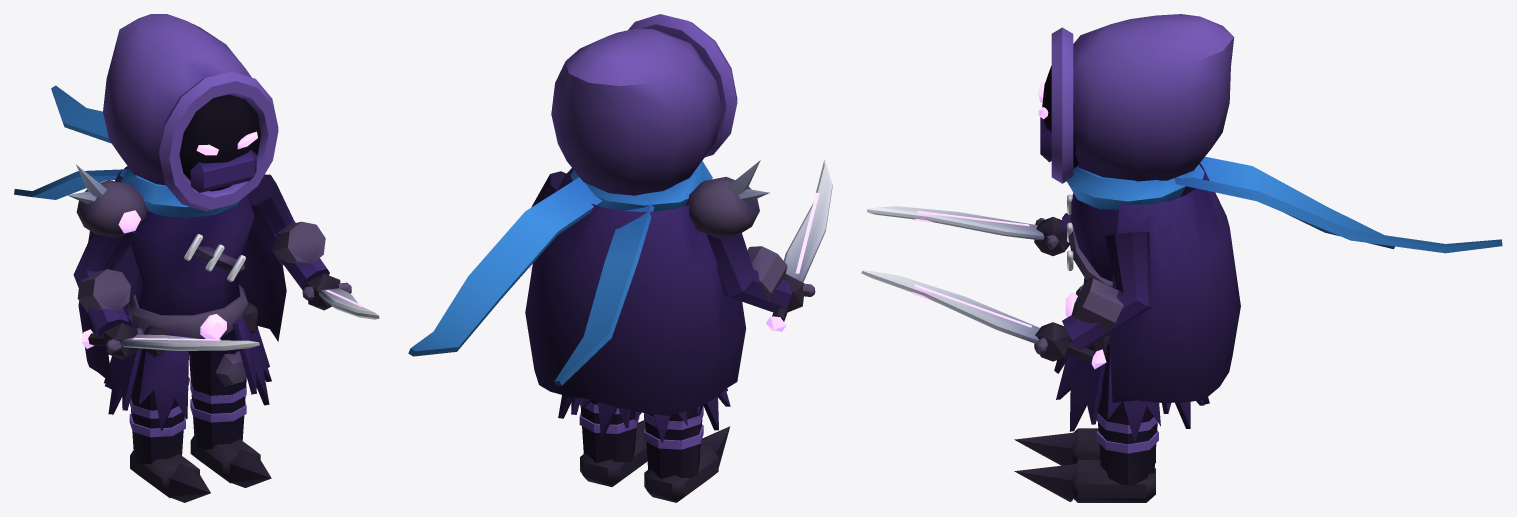
The model's file is hero_sable.glb.
3 renders of one model, left to right at view 1: azimuth 30°, elevation 25°; view 2: azimuth 150°, elevation 25°; view 3: azimuth 270°, elevation 25°, orthographic. The views are drawn at different scales.
Visible parts, largest first — view 1: torso, head, leg_l, arm_r, arm_l, leg_r; view 2: torso, head, arm_r, leg_r, leg_l, arm_l; view 3: torso, head, arm_l, leg_l, arm_r, leg_r.
Boxes of the visible parts, box(x1,y1,x2,y2) form: torso: box(14, 85, 286, 430); head: box(103, 14, 278, 211); leg_l: box(189, 329, 271, 487); arm_r: box(73, 231, 259, 359); arm_l: box(247, 174, 379, 319); leg_r: box(129, 348, 210, 502); torso: box(408, 160, 769, 442); head: box(551, 14, 737, 195); arm_r: box(706, 160, 832, 331); leg_r: box(644, 405, 730, 502); leg_l: box(579, 398, 647, 486); arm_l: box(529, 171, 566, 270); torso: box(1054, 156, 1502, 442); head: box(1038, 14, 1234, 183); arm_l: box(861, 231, 1151, 369); leg_l: box(1014, 343, 1158, 502); arm_r: box(867, 206, 1070, 255); leg_r: box(1014, 428, 1155, 465).
Size of the model in its own units: 0.9679 by 1.64 by 2.06.
